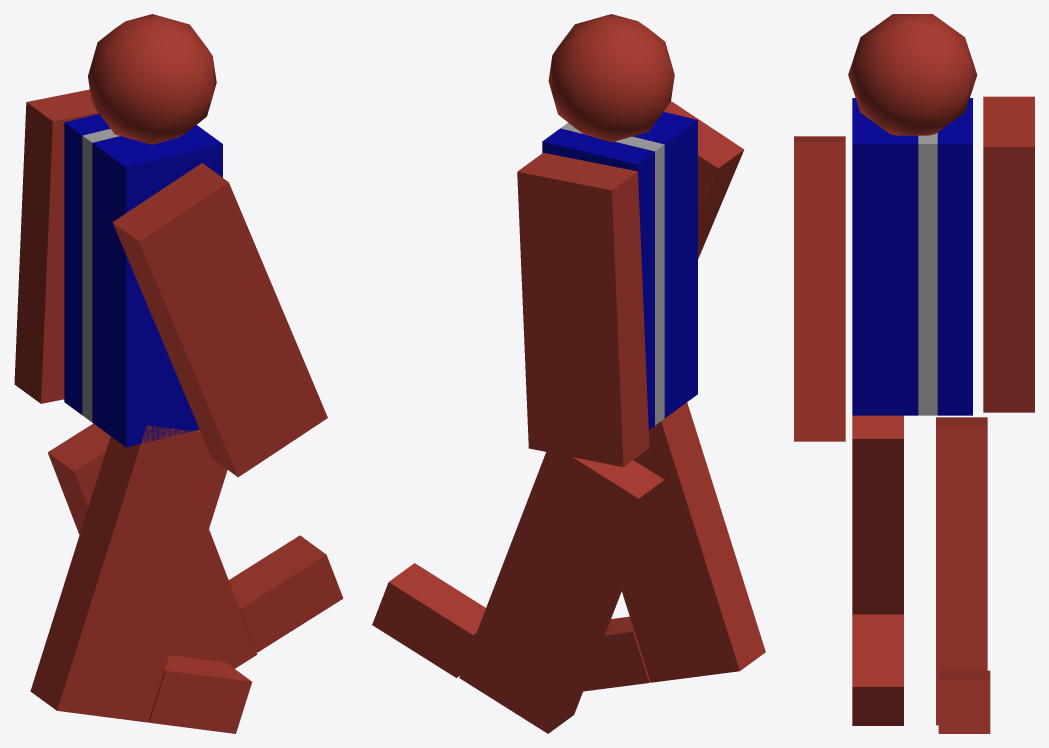
Rendered from player_000051.obj.
3 renders of one model, left to right at view 1: azimuth 30°, elevation 25°; view 2: azimuth 150°, elevation 25°; view 3: azimuth 270°, elevation 25°, orthographic. The views are drawn at different scales.
Visible parts, largest first — view 1: Cube.001, Cube.005, Cube, Cube.006, Icosphere, Cube.002, Cube.004, Cube.003; view 2: Cube.006, Cube.002, Cube.001, Cube, Icosphere, Cube.004, Cube.005, Cube.003; view 3: Cube, Cube.006, Cube.005, Cube.002, Icosphere, Cube.001, Cube.003, Cube.004.
Part boxes in pixels (left/top/right/bottom): Cube.001: left=30, top=425, right=227, bottom=722; Cube.005: left=112, top=163, right=327, bottom=477; Cube: left=64, top=114, right=222, bottom=447; Cube.006: left=14, top=89, right=98, bottom=403; Icosphere: left=88, top=14, right=216, bottom=144; Cube.002: left=47, top=423, right=257, bottom=668; Cube.004: left=228, top=535, right=343, bottom=652; Cube.003: left=148, top=655, right=251, bottom=733; Cube.006: left=517, top=152, right=649, bottom=466; Cube.002: left=459, top=452, right=664, bottom=733; Cube.001: left=622, top=402, right=765, bottom=682; Cube: left=542, top=112, right=697, bottom=429; Icosphere: left=548, top=14, right=674, bottom=142; Cube.004: left=372, top=563, right=485, bottom=677; Cube.005: left=664, top=101, right=744, bottom=258; Cube.003: left=583, top=616, right=650, bottom=691; Cube: left=852, top=98, right=972, bottom=415; Cube.006: left=983, top=96, right=1034, bottom=412; Cube.005: left=794, top=136, right=845, bottom=441; Cube.002: left=936, top=417, right=987, bottom=725; Icosphere: left=848, top=14, right=977, bottom=135; Cube.001: left=852, top=415, right=903, bottom=614; Cube.003: left=852, top=614, right=903, bottom=725; Cube.004: left=938, top=670, right=990, bottom=733.
Bounding box in the file's own units: 1.41 × 2.88 × 0.9137.
